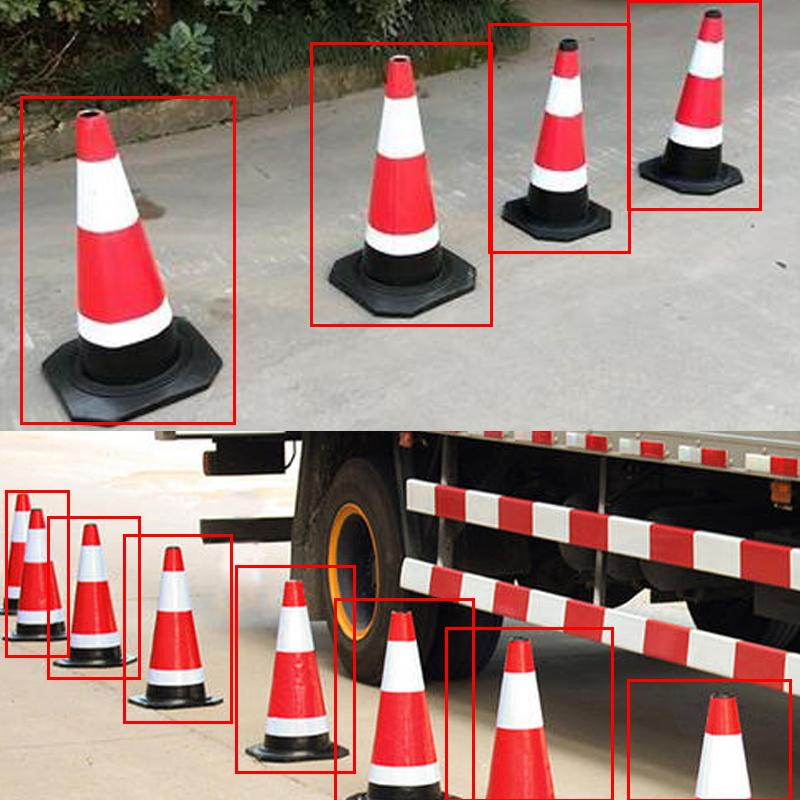traffic_cone: (24, 97, 237, 430), (294, 42, 492, 319), (491, 30, 629, 254), (232, 566, 354, 780), (345, 598, 472, 800), (651, 4, 771, 214), (461, 627, 604, 800), (123, 532, 235, 725), (49, 513, 136, 676), (9, 483, 74, 659)
